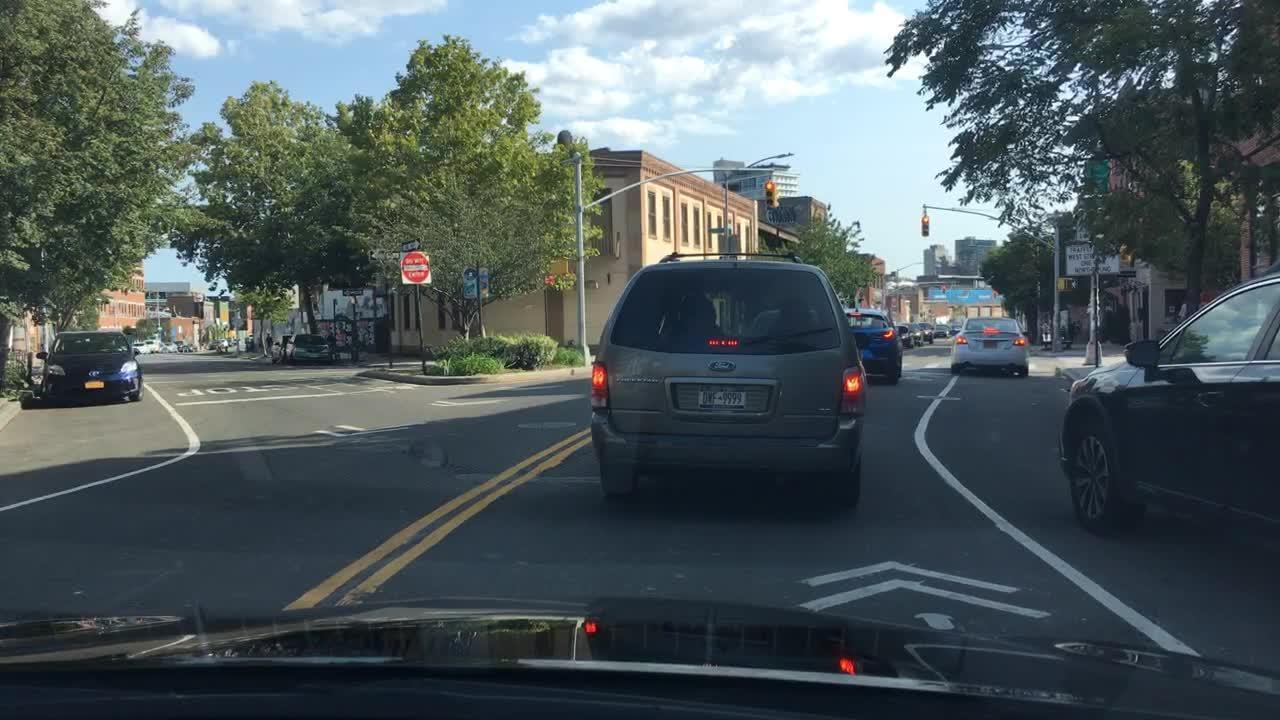ford: (708, 355, 742, 376)
